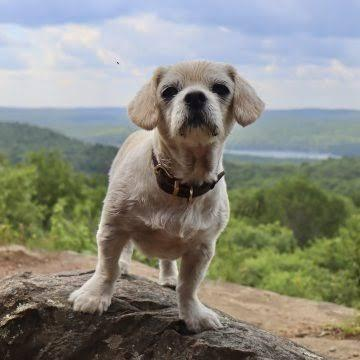adult_dog: (67, 61, 264, 332)
